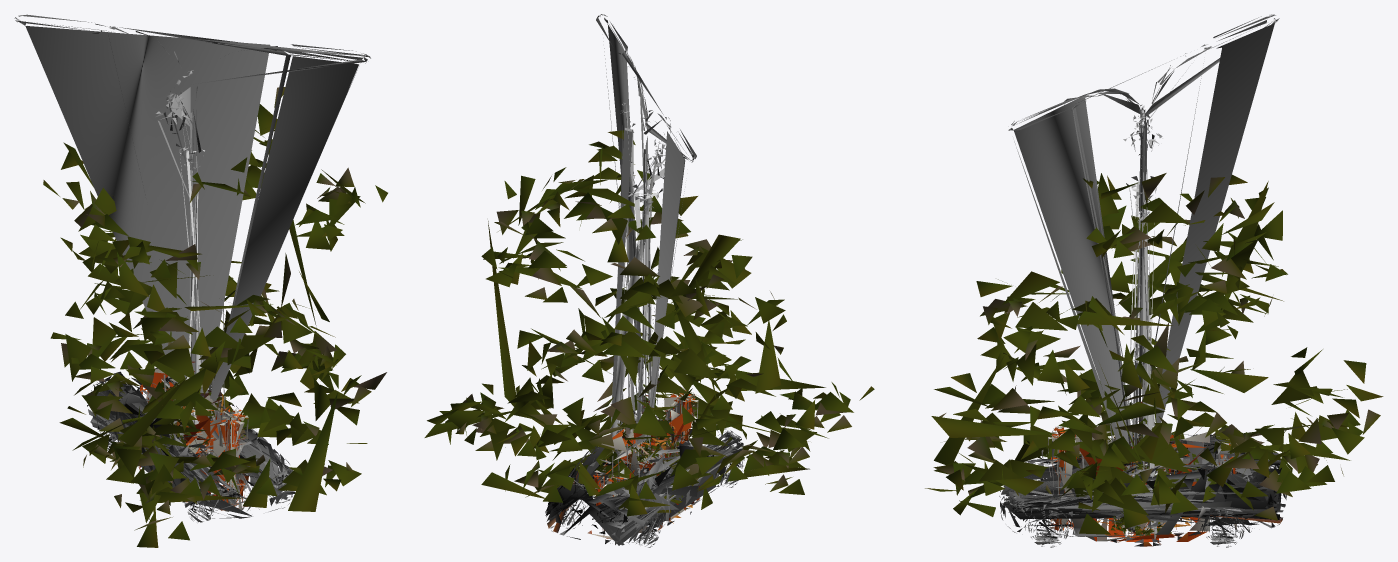
Rendered from props.glb.
3 renders of one model, left to right at view 1: azimuth 30°, elevation 25°; view 2: azimuth 150°, elevation 25°; view 3: azimuth 270°, elevation 25°, orthographic. The views are drawn at different scales.
Parts seen in each view (by area): view 1: prop_glightLarge, prop_gtree, prop_gtreeSmall, prop_gcar, prop_gbarricadeB, prop_gbarricadeA, prop_glightGlobe, prop_glightArc, prop_gbarrier; view 2: prop_gtree, prop_gtreeSmall, prop_gcar, prop_glightLarge, prop_glightArc, prop_glightGlobe, prop_gbarricadeB, prop_gbarricadeA, prop_gplant; view 3: prop_gtree, prop_glightLarge, prop_gcar, prop_gtreeSmall, prop_glightArc, prop_gbarricadeA, prop_gbarricadeB, prop_glightGlobe, prop_gplant, prop_gbarrier.
Boxes of the visible parts, left/top/right/bottom form: prop_glightLarge: left=14, top=14, right=370, bottom=427; prop_gtree: left=43, top=87, right=387, bottom=547; prop_gtreeSmall: left=94, top=290, right=301, bottom=505; prop_gcar: left=87, top=368, right=295, bottom=522; prop_gbarricadeB: left=139, top=372, right=248, bottom=508; prop_gbarricadeA: left=139, top=368, right=248, bottom=511; prop_glightGlobe: left=176, top=109, right=209, bottom=475; prop_glightArc: left=156, top=70, right=224, bottom=466; prop_gbarrier: left=145, top=365, right=247, bottom=510; prop_gtree: left=424, top=130, right=874, bottom=516; prop_gtreeSmall: left=540, top=315, right=744, bottom=512; prop_gcar: left=545, top=419, right=744, bottom=547; prop_glightLarge: left=596, top=14, right=696, bottom=465; prop_glightArc: left=608, top=102, right=665, bottom=495; prop_glightGlobe: left=632, top=160, right=665, bottom=482; prop_gbarricadeB: left=593, top=390, right=699, bottom=530; prop_gbarricadeA: left=594, top=387, right=698, bottom=532; prop_gplant: left=606, top=410, right=687, bottom=512; prop_gtree: left=925, top=173, right=1383, bottom=520; prop_glightLarge: left=1008, top=14, right=1279, bottom=476; prop_gcar: left=999, top=433, right=1286, bottom=547; prop_gtreeSmall: left=1059, top=322, right=1253, bottom=534; prop_glightArc: left=1123, top=104, right=1162, bottom=542; prop_gbarricadeA: left=1048, top=426, right=1231, bottom=541; prop_gbarricadeB: left=1050, top=427, right=1236, bottom=541; prop_glightGlobe: left=1123, top=176, right=1158, bottom=533; prop_gplant: left=1108, top=427, right=1179, bottom=536; prop_gbarrier: left=1041, top=434, right=1239, bottom=529.
Bounding box in the file's own units: 281 × 360 × 342.
